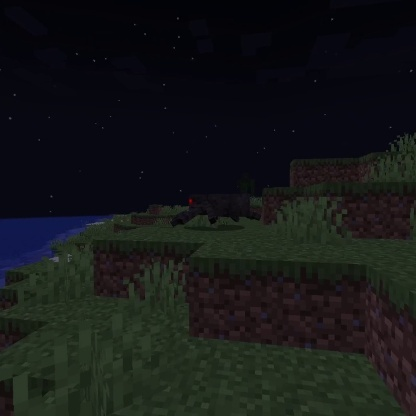spider: (167, 190, 263, 231)
